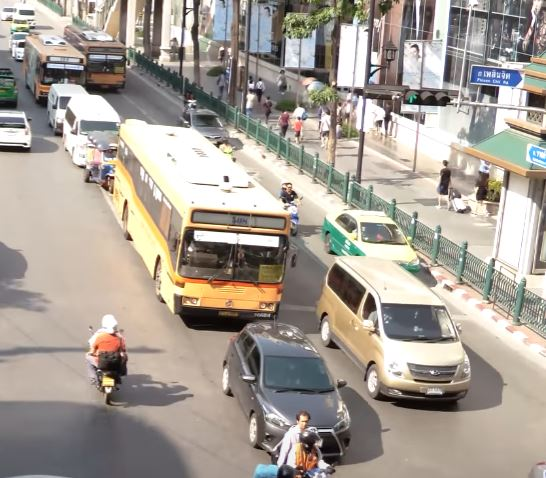Bus: (111, 120, 293, 326), (62, 24, 126, 92), (63, 94, 121, 168), (23, 34, 86, 101), (46, 83, 87, 133)
Car: (314, 255, 472, 408), (218, 318, 351, 465), (322, 209, 421, 275), (179, 107, 230, 147), (1, 109, 33, 151), (1, 66, 18, 105), (11, 16, 30, 34), (11, 38, 26, 60)
Motorcycle: (86, 312, 133, 406), (277, 182, 302, 232)
TukTuk: (83, 129, 120, 193)
